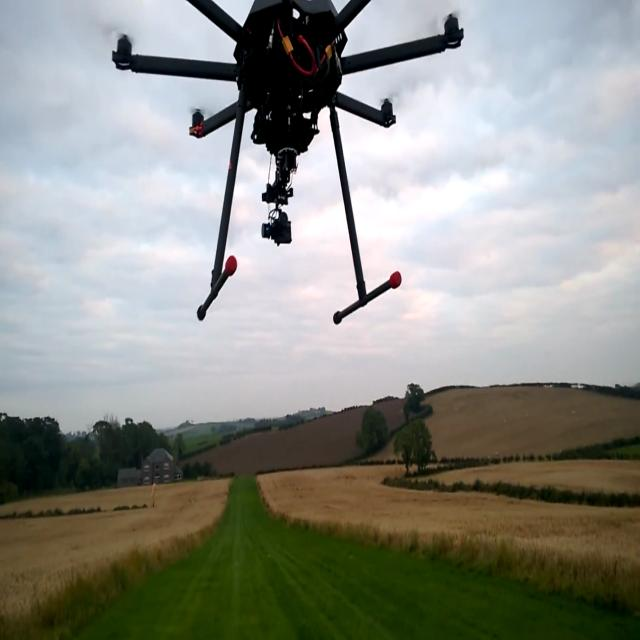drone: (105, 0, 476, 381)
